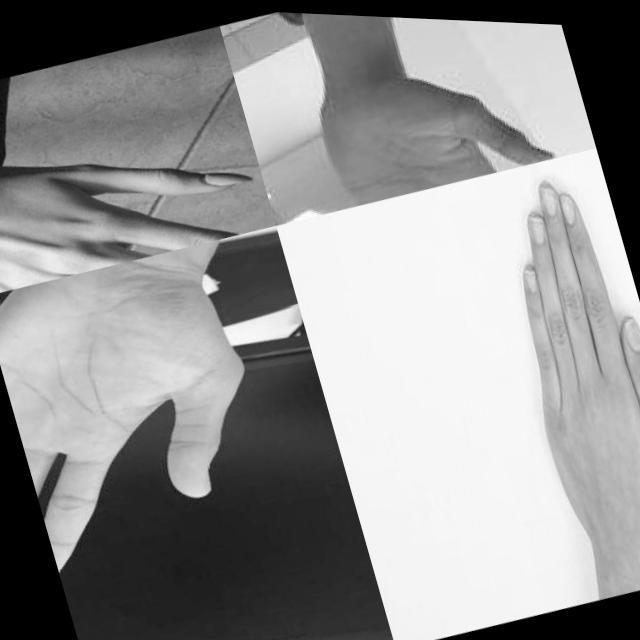no-gloves: (0, 233, 287, 591), (479, 160, 640, 564), (0, 80, 275, 307), (304, 24, 558, 215)
